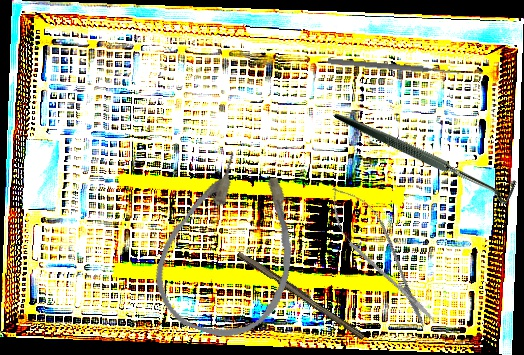Cannula: (142, 141, 321, 352)
Hook Surgical: (332, 50, 524, 256)
Micro Scissor: (316, 175, 448, 338)
Pusher: (327, 57, 461, 77)
Scalpel Handle: (235, 248, 368, 341)
